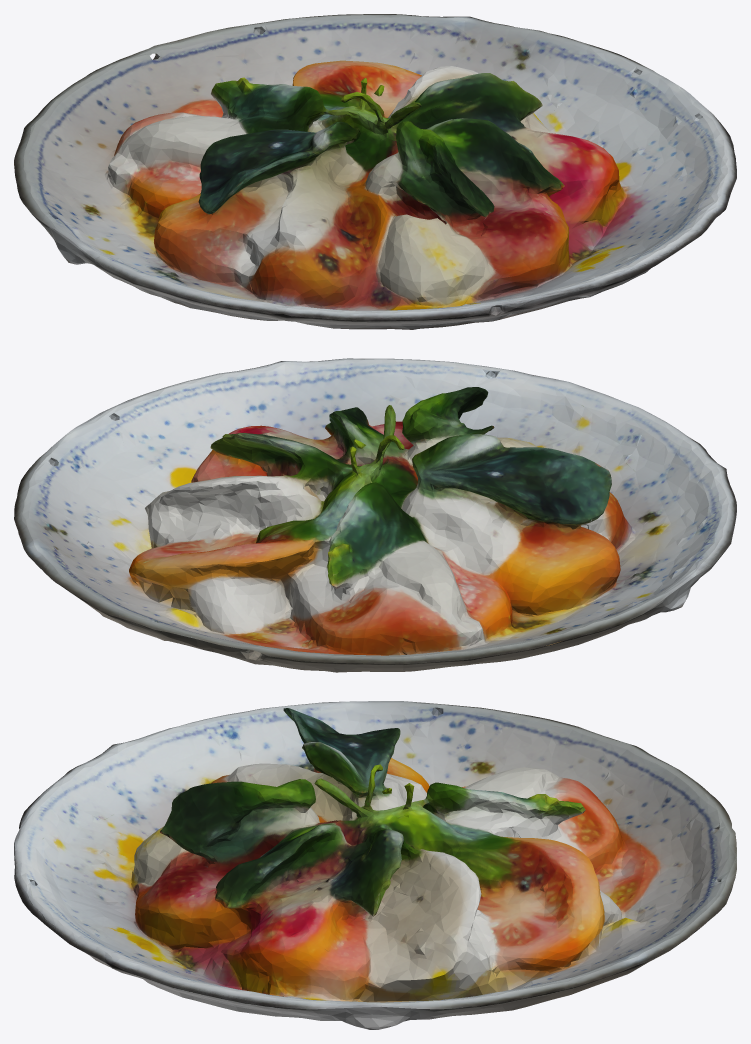
File: ZestyTomatoMedley.glb
3 renders of one model, top to bottom at view 1: azimuth 30°, elevation 25°; view 2: azimuth 150°, elevation 25°; view 3: azimuth 270°, elevation 25°, orthographic.
Parts seen in each view (by area): view 1: world; view 2: world; view 3: world.
Part boxes in pixels (bbox=[...]): world: bbox=[14, 14, 736, 329]; world: bbox=[14, 358, 736, 672]; world: bbox=[14, 701, 736, 1029].
Bounding box in the file's own units: 1 × 0.2277 × 1.
1 material, 1 textured.
